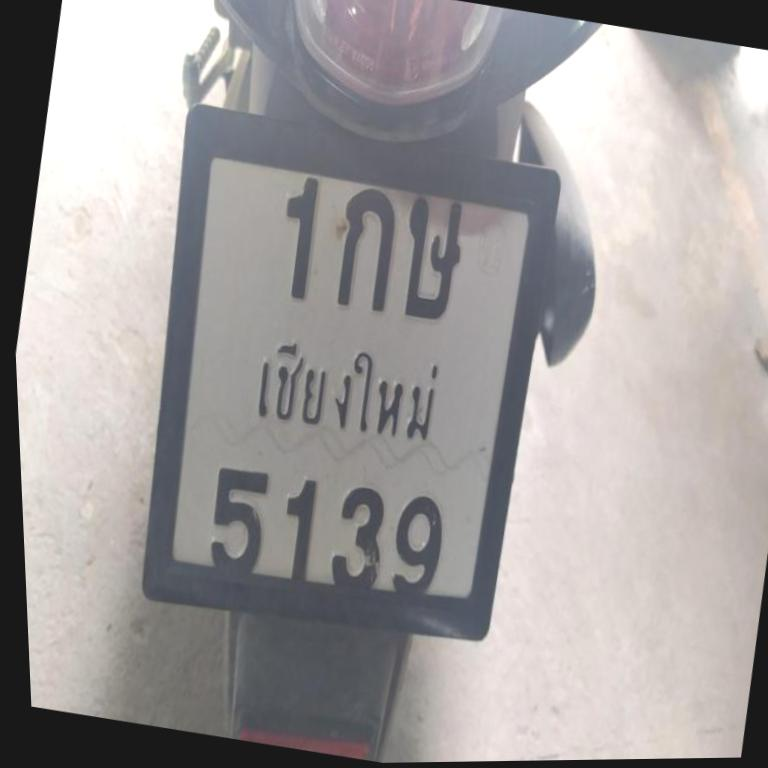license plate: (85, 72, 594, 662)
